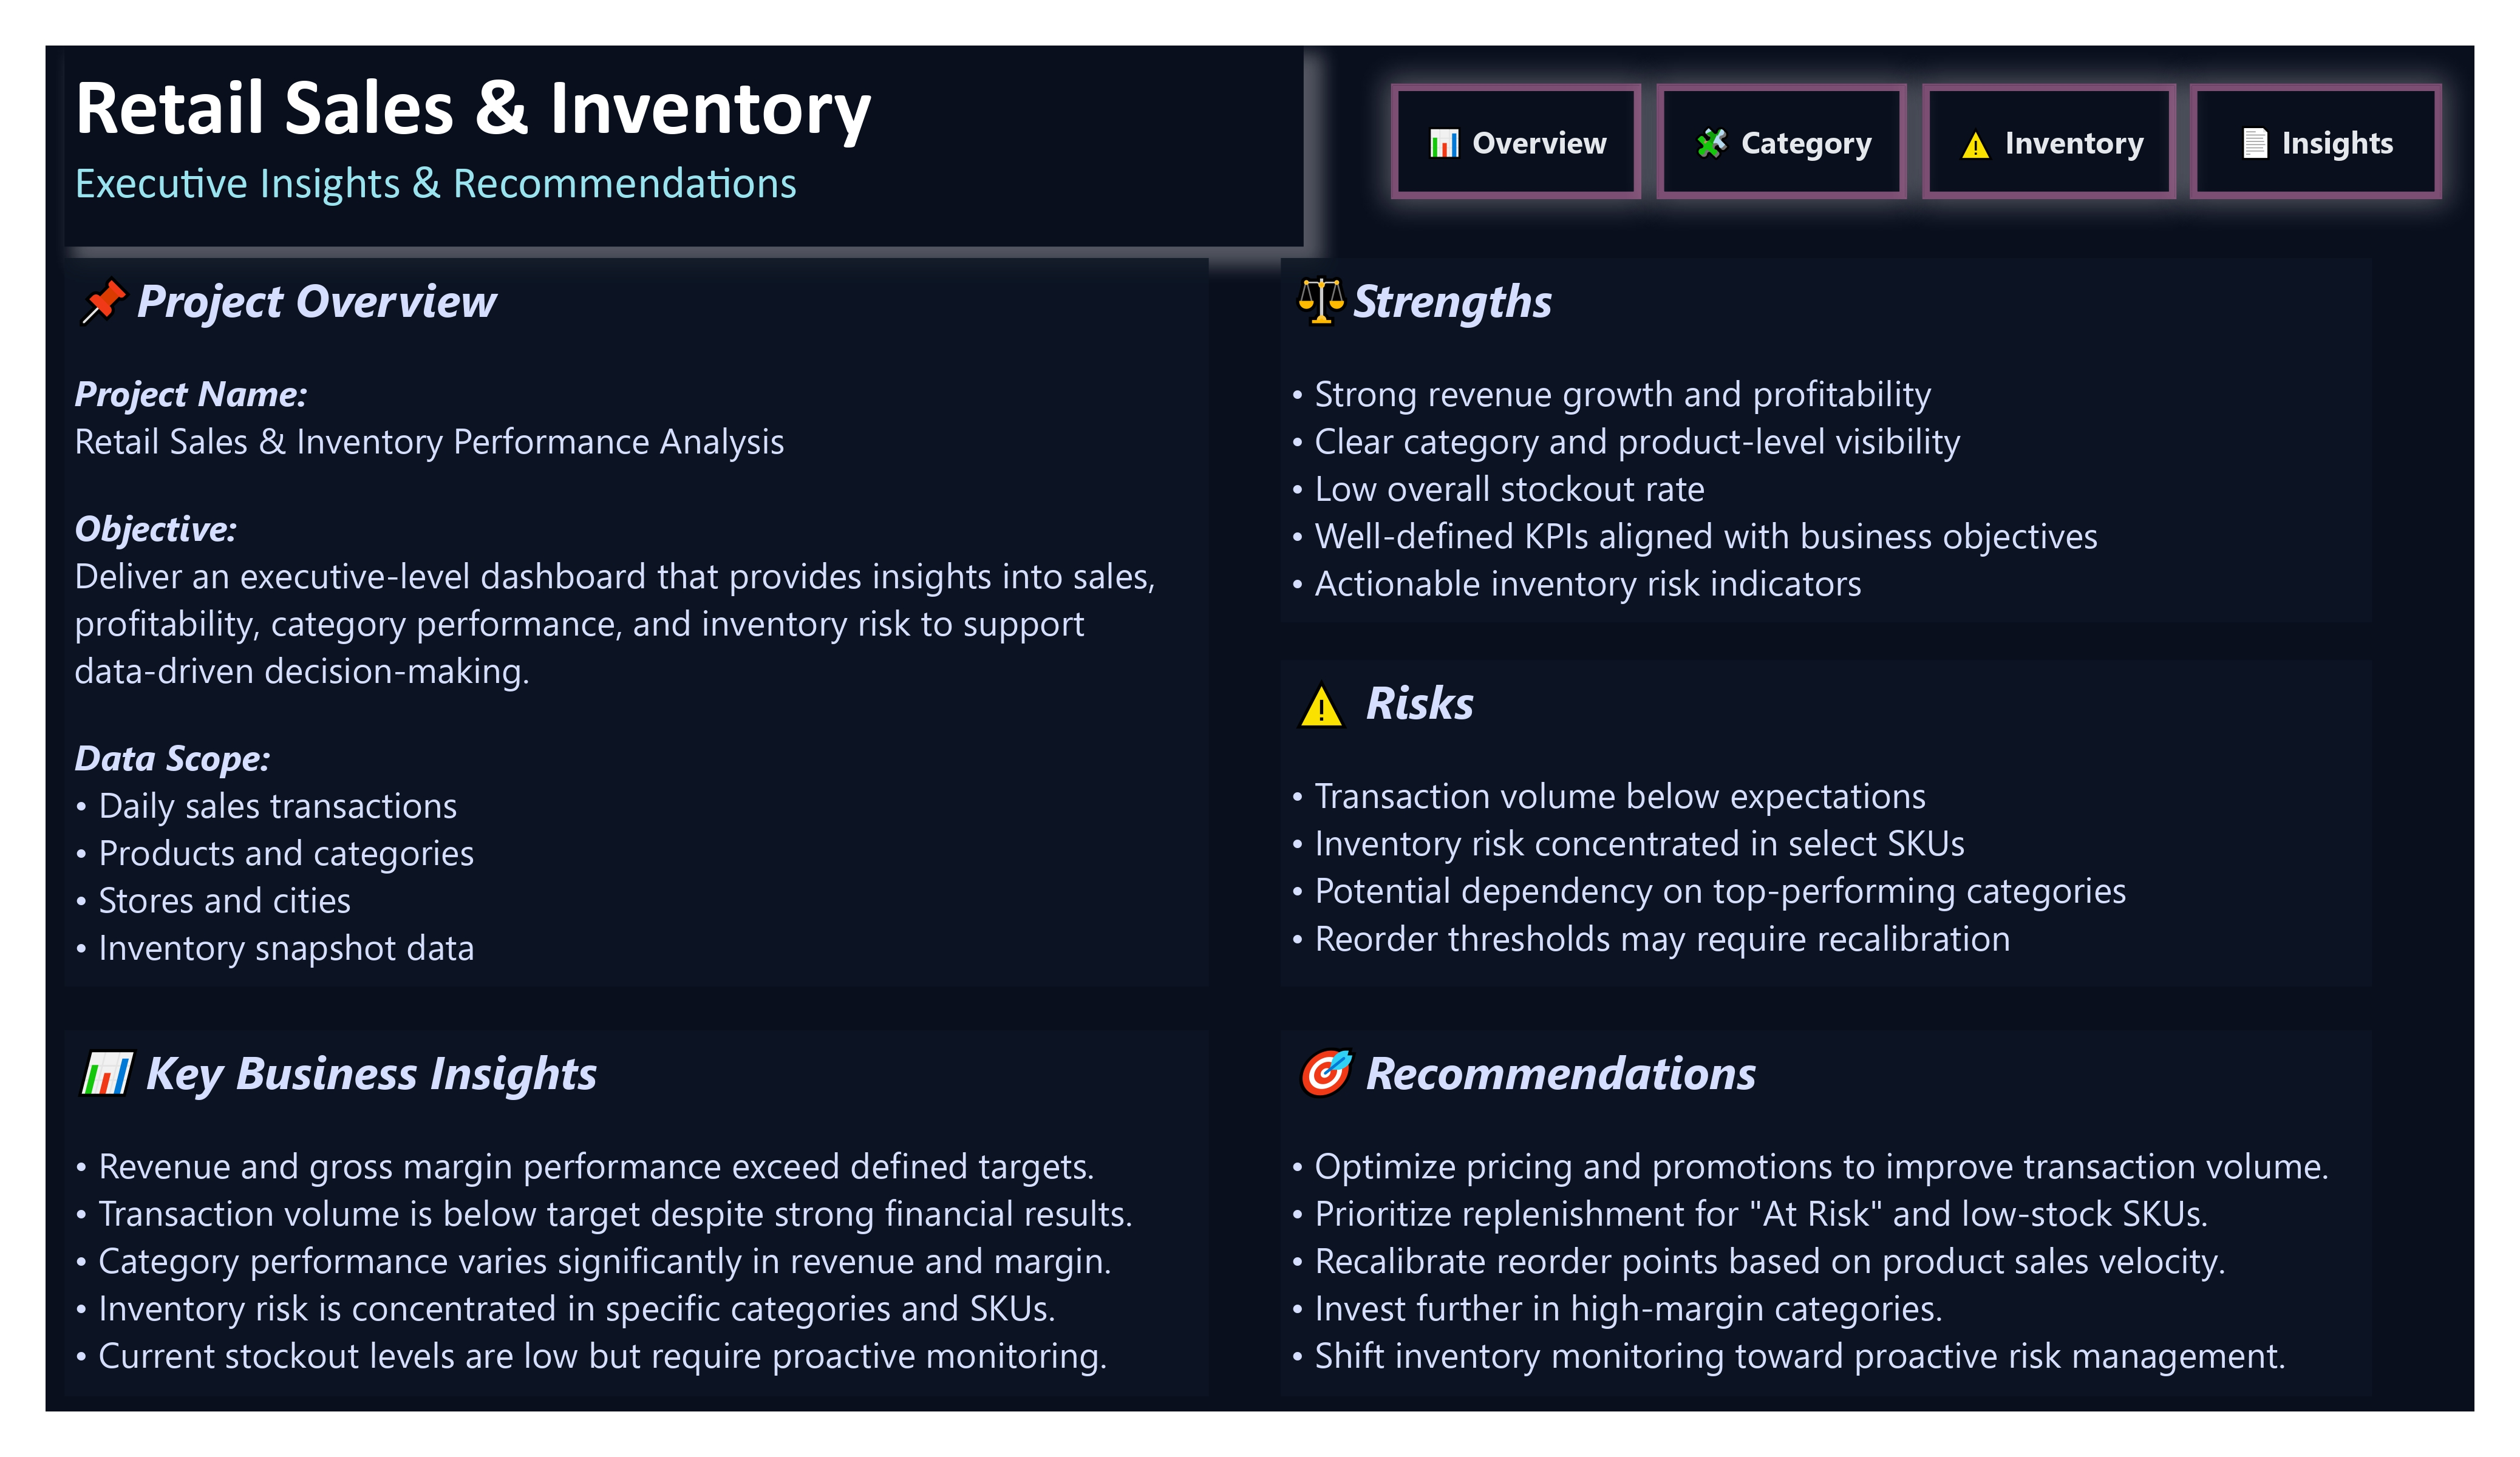

Layout of this report page (visuals, bound fields, positions):
{"tool":"powerbi","page":{"name":"Executive Insights & Recommendations","canvas":[1280,720],"ordinal":3},"visuals":[{"type":"textbox","box":[10,0,652.5,106.2],"z":0},{"type":"textbox","box":[9.8,112.3,603.3,383.5],"z":1000},{"type":"textbox","box":[9.8,519,603.3,192.9],"z":2000},{"type":"textbox","box":[650.9,112.3,575.2,191.7],"z":3000},{"type":"textbox","box":[650.9,323.6,575.2,172.2],"z":4000},{"type":"textbox","box":[650.9,519,575.2,192.9],"z":5000},{"type":"actionButton","title":"Overview","box":[708.8,20,132.5,61.2],"z":6000},{"type":"actionButton","title":"Overview","box":[848.8,20,132.5,61.2],"z":7000},{"type":"actionButton","title":"Overview","box":[988.8,20,133.8,61.2],"z":8000},{"type":"actionButton","title":"Overview","box":[1130,20,132.5,61.2],"z":9000}]}

Visuals, with their boxes on the page's 1280x720 design canvas (x1, y1, x2, y2). These are canvas units, not pixel positions in the 2520x1457 screenshot, which may show the page scaled, cropped or inside an application window:
textbox: crop(10, 0, 662, 106)
textbox: crop(10, 112, 613, 496)
textbox: crop(10, 519, 613, 712)
textbox: crop(651, 112, 1226, 304)
textbox: crop(651, 324, 1226, 496)
textbox: crop(651, 519, 1226, 712)
"Overview" actionButton: crop(709, 20, 841, 81)
"Overview" actionButton: crop(849, 20, 981, 81)
"Overview" actionButton: crop(989, 20, 1123, 81)
"Overview" actionButton: crop(1130, 20, 1262, 81)
